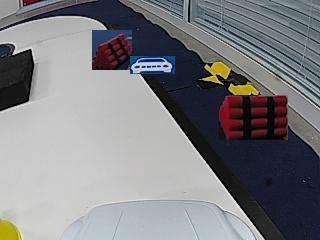block: (0, 50, 32, 111)
